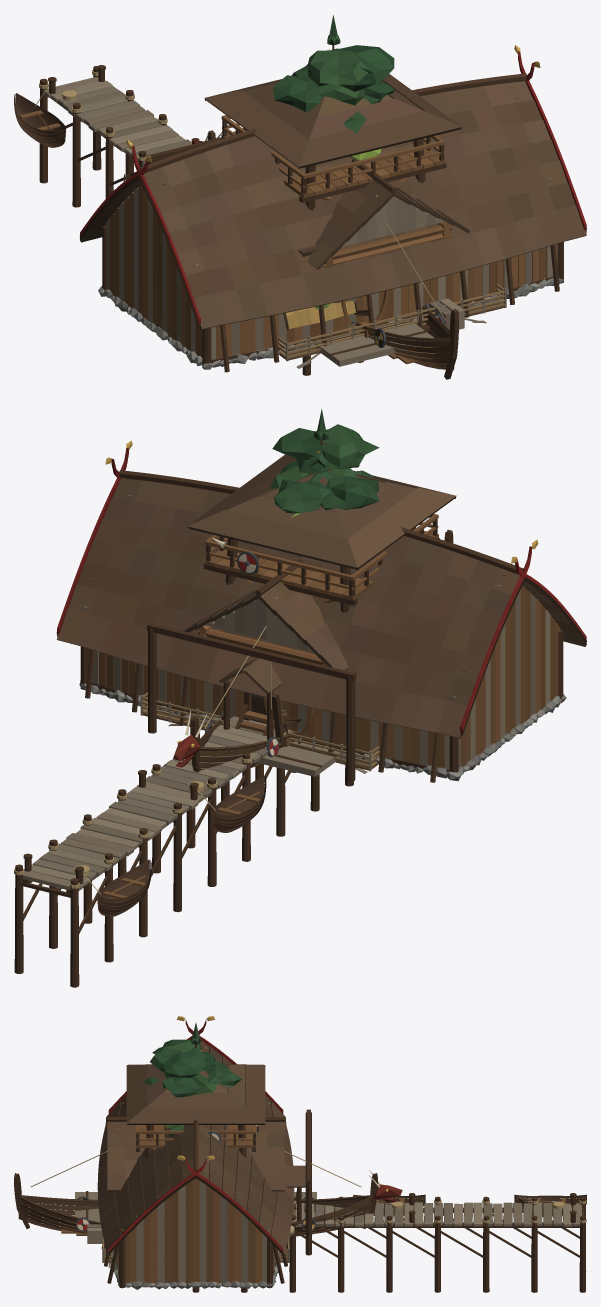
File: VikingAssets.glb
3 views of the same model, one above another, from view 1: azimuth 30°, elevation 25°; view 2: azimuth 150°, elevation 25°; view 3: azimuth 270°, elevation 25° (orthographic). The views are drawn at different scales.
Visible parts, largest first — view 1: Mat_Wood_73563d, Mat_Wood_493525, Mat_Wood_4e3726, Mat_Wood_614730, Mat_Wood_473223, Mat_Leaves_2c482c, Mat_Wood_7a5636, Mat_Wood_83715b, Mat_Leaves_365533, Mat_Wood_7d5939, Mat_Wood_644d38, Mat_Wood_402f22 (+19 smaller); view 2: Mat_Wood_73563d, Mat_Wood_493525, Mat_Wood_4e3726, Mat_Wood_473223 (×2), Mat_Wood_644d38, Mat_Wood_5a3f2a, Mat_Wood_83715b, Mat_Leaves_2c482c, Mat_Wood_614730, Mat_Wood_402f22, Mat_Wood_7a5636, Mat_Wood_806042 (+17 smaller); view 3: Mat_Wood_73563d, Mat_Wood_4e3726, Mat_Wood_473223 (×2), Mat_Wood_493525, Mat_Wood_614730, Mat_Leaves_2c482c, Mat_Wood_83715b, Mat_Wood_402f22, Mat_Wood_443022, Mat_Wood_493322, Mat_Wood_6e5640, Mat_Thatch_847562 (+15 smaller).
Boxes of the visible parts, x1,y1,x2,y2 form: Mat_Wood_73563d: (105, 81, 586, 359); Mat_Wood_493525: (80, 73, 575, 372); Mat_Wood_4e3726: (205, 74, 461, 198); Mat_Wood_614730: (307, 180, 468, 269); Mat_Wood_473223: (14, 65, 308, 375); Mat_Leaves_2c482c: (273, 45, 395, 123); Mat_Wood_7a5636: (221, 115, 444, 200); Mat_Wood_83715b: (57, 85, 190, 165); Mat_Leaves_365533: (292, 48, 387, 134); Mat_Wood_7d5939: (314, 290, 451, 366); Mat_Wood_644d38: (15, 78, 363, 362); Mat_Wood_402f22: (79, 175, 586, 362); Mat_Wood_73563d: (57, 480, 560, 769); Mat_Wood_493525: (57, 470, 584, 782); Mat_Wood_4e3726: (187, 454, 456, 613); Mat_Wood_473223 (×2): (14, 714, 353, 973); Mat_Wood_644d38: (49, 709, 286, 987); Mat_Wood_5a3f2a: (147, 623, 356, 781); Mat_Wood_83715b: (32, 731, 275, 881); Mat_Leaves_2c482c: (272, 424, 378, 509); Mat_Wood_614730: (184, 581, 348, 732); Mat_Wood_402f22: (56, 577, 586, 772); Mat_Wood_7a5636: (205, 514, 438, 602); Mat_Wood_806042: (198, 594, 323, 722); Mat_Wood_73563d: (97, 1041, 305, 1283); Mat_Wood_4e3726: (126, 1064, 265, 1157); Mat_Wood_473223 (×2): (193, 1193, 586, 1292); Mat_Wood_493525: (104, 1046, 301, 1288); Mat_Wood_614730: (107, 1121, 293, 1214); Mat_Leaves_2c482c: (149, 1039, 241, 1097); Mat_Wood_83715b: (294, 1202, 562, 1226); Mat_Wood_402f22: (101, 1046, 290, 1283); Mat_Wood_443022: (19, 1196, 372, 1236); Mat_Wood_493322: (14, 1173, 377, 1233); Mat_Wood_6e5640: (18, 1199, 372, 1267); Mat_Thatch_847562: (136, 1047, 269, 1282).
Size of the model in its own units: 41.26 by 35.6 by 71.08.
1 material, 1 textured.
